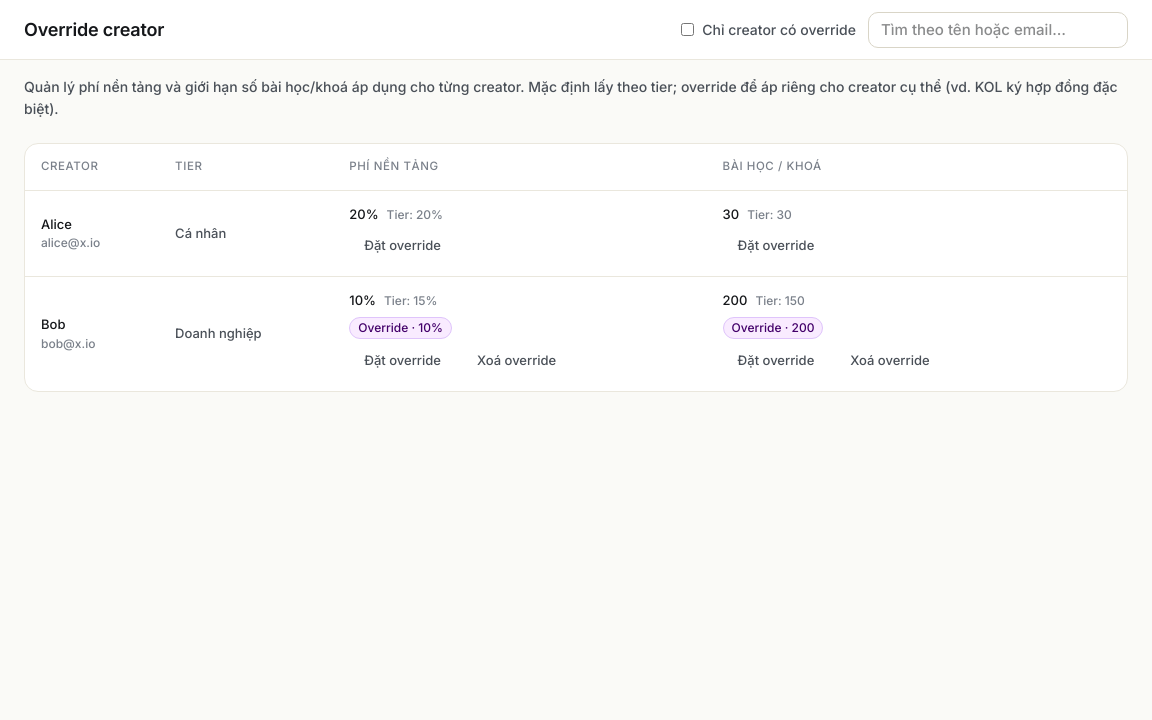
it: AdminCreatorFeesPage › set override flow › rejects invalid input client-side (out of range)
The image size is (1152, 720).
Expected: the row with test id "creator-fees-row-u-alice" is shown, top-left (25, 190), bottom-right (1127, 277)
Click the button with test id "set-override-btn-u-alice".
click(403, 246)  # box top-left (349, 230), bottom-right (456, 262)
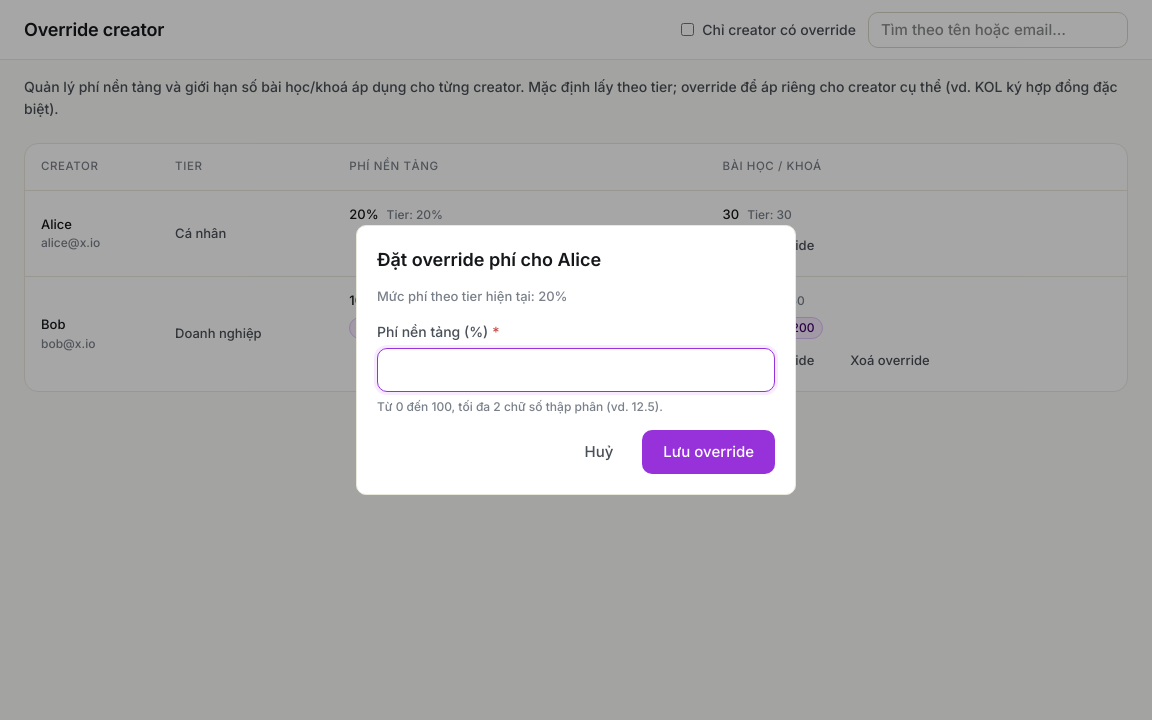
Type "120" into the field with test id "override-input".
click(576, 370); type("120")  # box top-left (377, 348), bottom-right (775, 392)
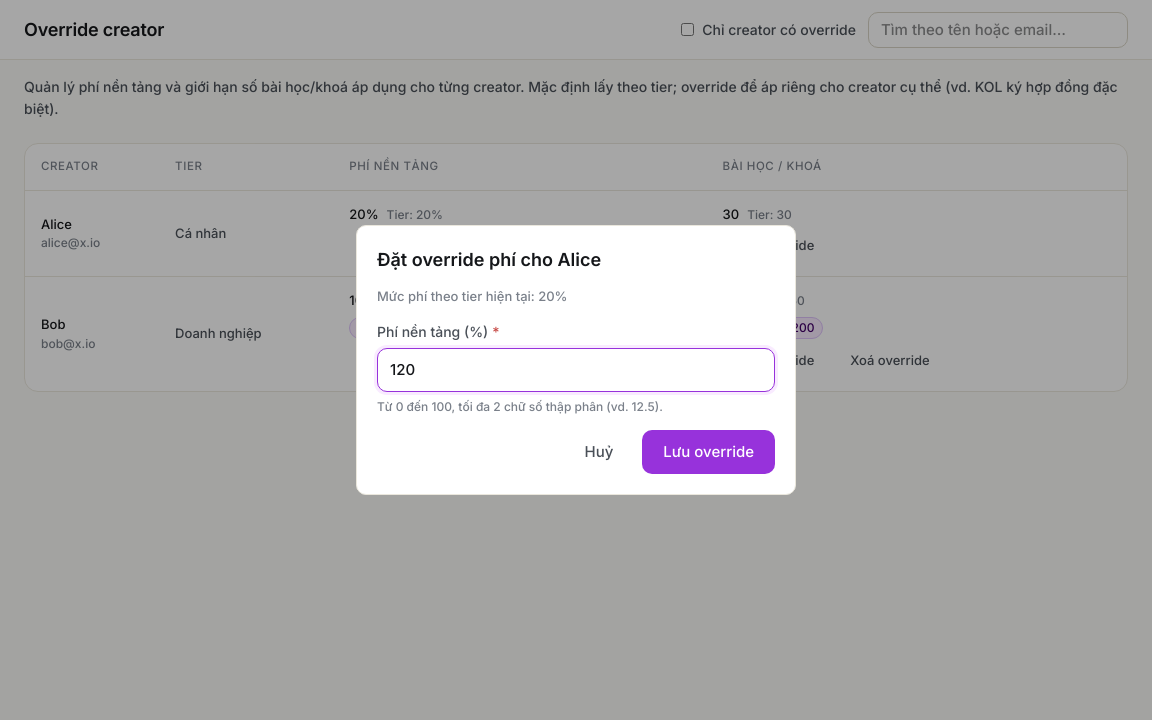
Click the button with test id "modal-confirm-save".
click(709, 452)  # box top-left (642, 430), bottom-right (775, 474)
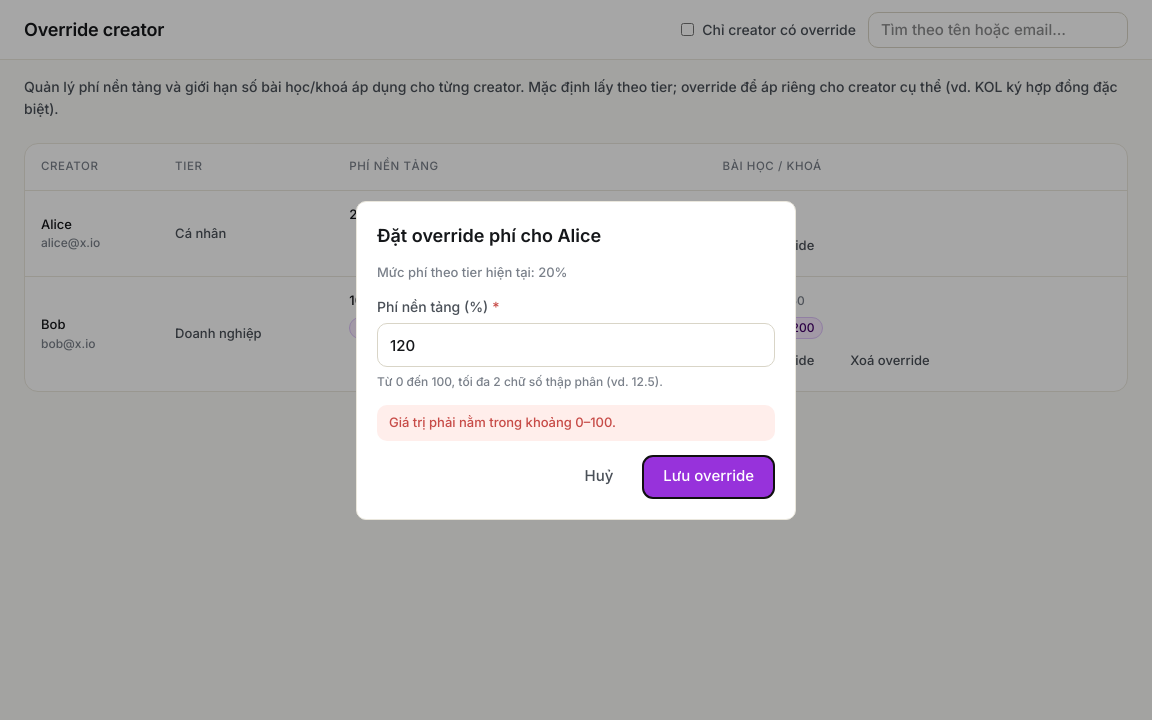
Expected: the message with test id "modal-error" reads "Giá trị phải nằm trong khoảng 0–100.", top-left (389, 414), bottom-right (616, 430)
